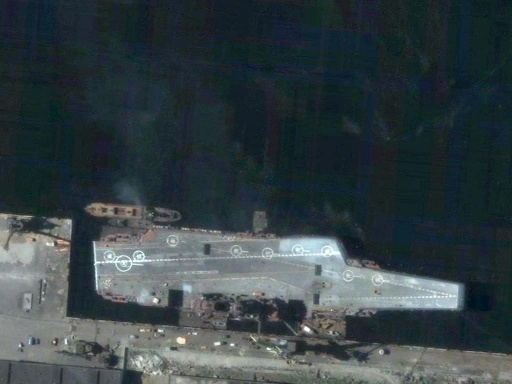ship: (88, 220, 470, 325), (82, 201, 182, 225)
